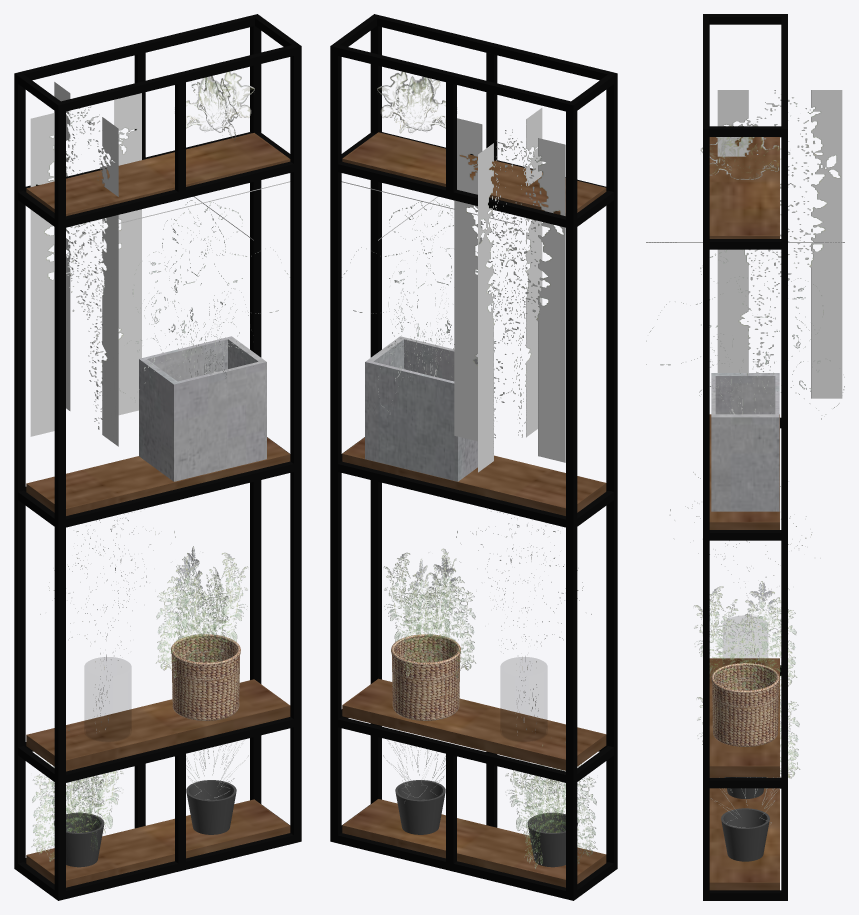
Rendered from shelf-var-1.glb.
The picture shows the model from 3 angles, left to right: view 1: azimuth 30°, elevation 25°; view 2: azimuth 150°, elevation 25°; view 3: azimuth 270°, elevation 25°; orthographic projection. The views are drawn at different scales.
Visible parts, largest first — view 1: シェルフ 31, シェルフ 15, シェルフ 48, シェルフ 30, シェルフ 44, シェルフ 46, シェルフ 45, シェルフ 47, シェルフ 29, シェルフ 43, シェルフ 19, シェルフ 3 (+15 smaller); view 2: シェルフ 31, シェルフ 48, シェルフ 15, シェルフ 30, シェルフ 29, シェルフ 47, シェルフ 44, シェルフ 45, シェルフ 46, シェルフ 43, シェルフ 19, シェルフ 3 (+19 smaller); view 3: シェルフ 47, シェルフ 15, シェルフ 46, シェルフ 31, シェルフ 29, シェルフ 45, シェルフ 19, シェルフ, シェルフ 44, シェルフ 18, シェルフ 43, シェルフ 17 (+11 smaller).
Boxes of the visible parts, x1,y1,x2,y2 form: シェルフ 31: (54,44,301,900); シェルフ 15: (139,336,266,481); シェルフ 48: (30,93,141,436); シェルフ 30: (14,72,25,868); シェルフ 44: (26,679,290,771); シェルフ 46: (26,133,290,216); シェルフ 45: (26,799,290,887); シェルフ 47: (54,82,118,446); シェルフ 29: (250,14,261,803); シェルフ 43: (26,437,290,515); シェルフ 19: (171,637,239,720); シェルフ 3: (156,552,248,678); シェルフ 31: (370,14,617,870); シェルフ 48: (454,118,565,462); シェルフ 15: (365,336,477,481); シェルフ 30: (566,101,577,900); シェルフ 29: (330,44,341,843); シェルフ 47: (478,108,542,472); シェルフ 44: (342,678,606,770); シェルフ 45: (342,799,606,887); シェルフ 46: (342,132,606,215); シェルフ 43: (342,437,606,515); シェルフ 19: (392,637,460,720); シェルフ 3: (383,552,475,678); シェルフ 47: (717,90,842,398); シェルフ 15: (711,373,779,511); シェルフ 46: (709,137,779,238); シェルフ 31: (703,14,709,900); シェルフ 29: (781,125,787,900); シェルフ 45: (709,777,779,890); シェルフ 19: (712,666,778,746); シェルフ: (693,581,797,690); シェルフ 44: (709,658,779,776); シェルフ 18: (721,808,769,861); シェルフ 43: (709,414,779,529); シェルフ 17: (646,242,844,419).
Size of the model in its own units: 8.51 by 25 by 5.84.
Materials: 12 (9 with a texture image).
